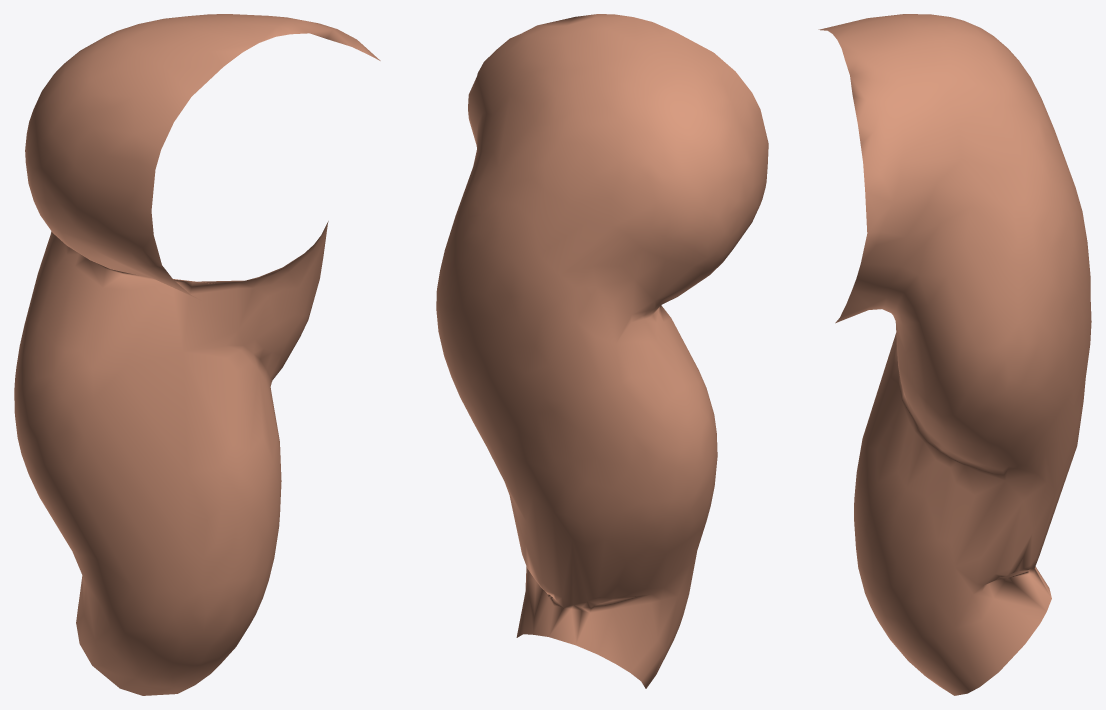
Rendered from sigmoid-colon.glb.
The picture shows the model from 3 angles, left to right: view 1: azimuth 30°, elevation 25°; view 2: azimuth 150°, elevation 25°; view 3: azimuth 270°, elevation 25°; orthographic projection. The views are drawn at different scales.
Visible parts, largest first — view 1: Sigmoid colon; view 2: Sigmoid colon; view 3: Sigmoid colon.
Part boxes in pixels (<box>): Sigmoid colon: <box>14,14,380,695</box>; Sigmoid colon: <box>436,14,768,688</box>; Sigmoid colon: <box>818,14,1091,695</box>.
Size of the model in its own units: 0.0616 by 0.1226 by 0.0494.
